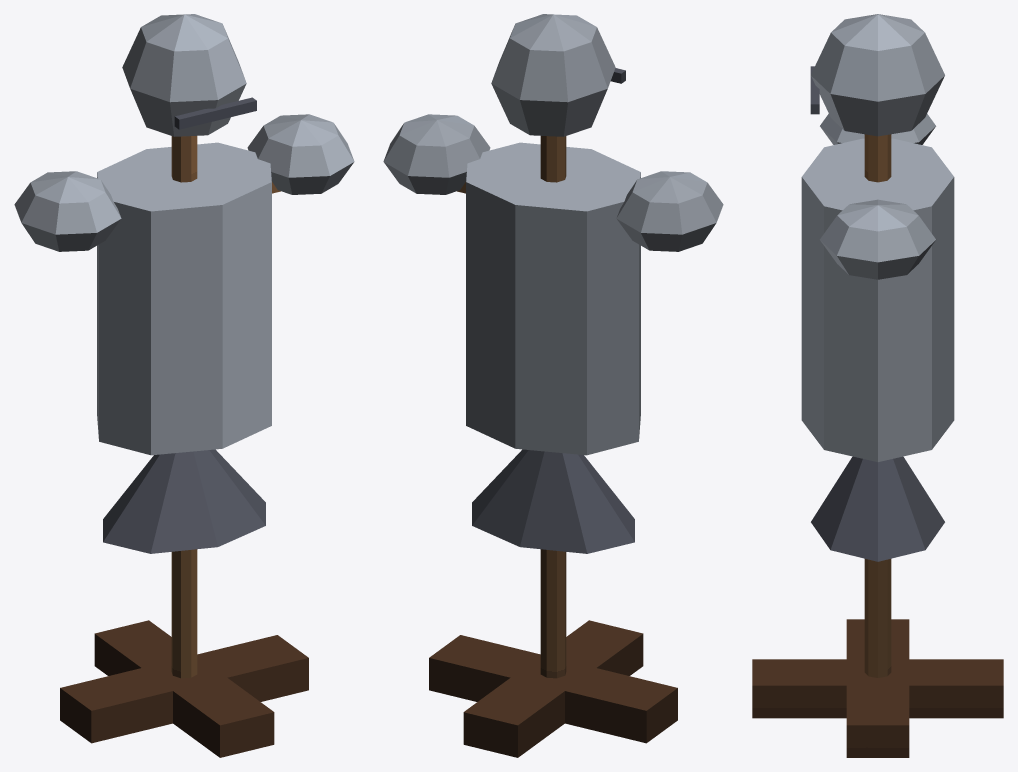
The model's file is armor_stand.glb.
3 renders of one model, left to right at view 1: azimuth 30°, elevation 25°; view 2: azimuth 150°, elevation 25°; view 3: azimuth 270°, elevation 25°, orthographic.
Bounding box in the file's own units: 0.84 × 1.7 × 0.56.
Materials: 1 (1 with a texture image).
